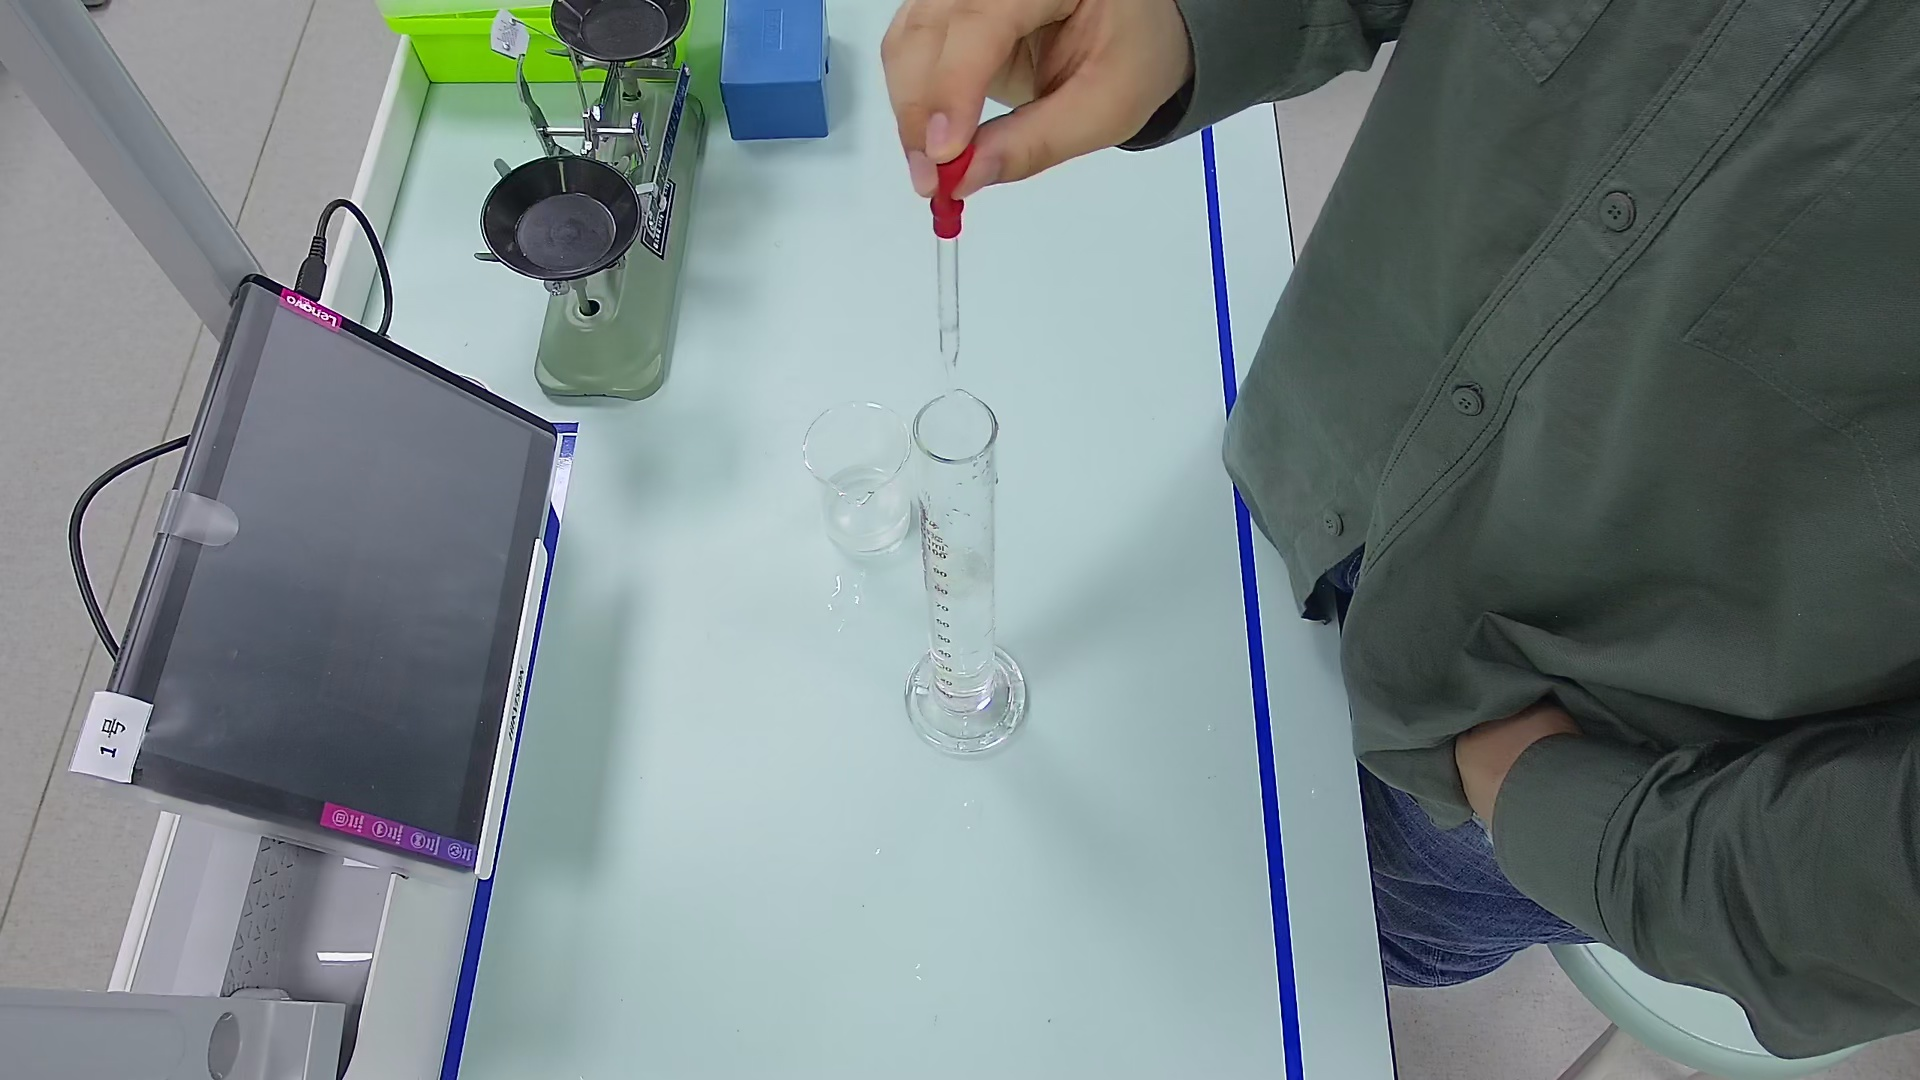bei: (799, 392, 924, 556)
diguan: (916, 124, 989, 363)
diguantou: (927, 140, 978, 235)
hand: (864, 5, 1163, 211)
liangdi: (906, 653, 1031, 762)
liangtong: (909, 386, 1030, 757)
tuo: (479, 145, 651, 286), (543, 1, 686, 65)
